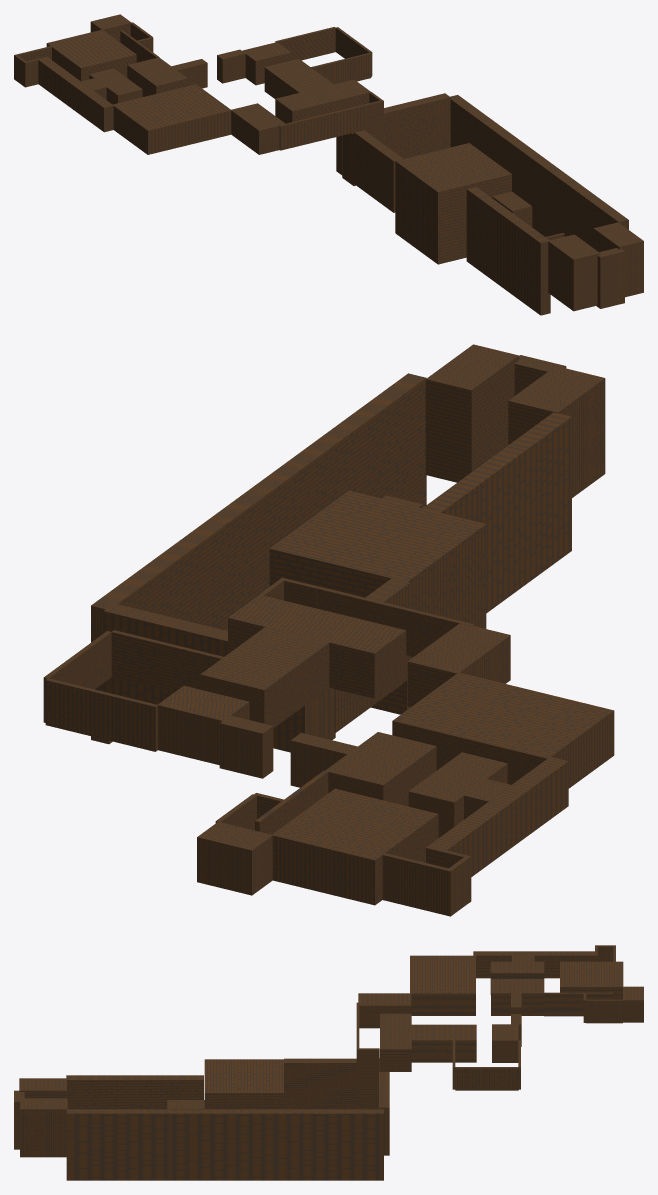
The model's file is P_Pared.obj.
The picture shows the model from 3 angles, top to bottom: view 1: azimuth 30°, elevation 25°; view 2: azimuth 150°, elevation 25°; view 3: azimuth 270°, elevation 25°; orthographic projection. The views are drawn at different scales.
Parts seen in each view (by area): view 1: P_Pared10, P_Pared3, P_Pared4, P_Pared21, P_Pared11, P_Pared2, P_Pared26, P_Pared12, P_Pared24, P_Pared19, P_Pared18, P_Pared1 (+16 smaller); view 2: P_Pared3, P_Pared10, P_Pared21, P_Pared4, P_Pared26, P_Pared1, P_Pared19, P_Pared27, P_Pared24, P_Pared2, P_Pared11, P_Pared38 (+18 smaller); view 3: P_Pared3, P_Pared4, P_Pared10, P_Pared21, P_Pared12, P_Pared1, P_Pared27, P_Pared26, P_Pared19, P_Pared22, P_Pared24, P_Pared36 (+12 smaller).
Part boxes in pixels (x1,y1,x2,y2): P_Pared10: [395, 143, 511, 264]; P_Pared3: [450, 95, 628, 247]; P_Pared4: [466, 186, 550, 315]; P_Pared21: [113, 84, 231, 154]; P_Pared11: [336, 93, 450, 175]; P_Pared2: [548, 234, 600, 311]; P_Pared26: [46, 29, 136, 81]; P_Pared12: [353, 130, 402, 212]; P_Pared24: [37, 56, 113, 132]; P_Pared19: [275, 79, 370, 123]; P_Pared18: [279, 105, 364, 150]; P_Pared1: [593, 222, 643, 297]; P_Pared3: [91, 373, 426, 744]; P_Pared10: [269, 490, 486, 714]; P_Pared21: [392, 672, 614, 788]; P_Pared4: [422, 412, 571, 613]; P_Pared26: [272, 788, 438, 905]; P_Pared1: [425, 344, 519, 482]; P_Pared19: [228, 594, 406, 698]; P_Pared27: [200, 627, 329, 728]; P_Pared24: [426, 756, 568, 876]; P_Pared2: [508, 366, 605, 497]; P_Pared11: [103, 603, 315, 752]; P_Pared38: [45, 678, 157, 751]; P_Pared3: [66, 1109, 383, 1180]; P_Pared4: [66, 1075, 203, 1109]; P_Pared10: [204, 1059, 283, 1109]; P_Pared21: [410, 955, 475, 1015]; P_Pared12: [284, 1058, 357, 1109]; P_Pared1: [20, 1098, 67, 1157]; P_Pared27: [411, 1024, 476, 1062]; P_Pared26: [560, 961, 623, 999]; P_Pared19: [380, 1013, 411, 1071]; P_Pared22: [491, 979, 544, 1015]; P_Pared24: [473, 951, 597, 978]; P_Pared36: [455, 1067, 518, 1090].
Size of the model in its own units: 64.59 by 19.38 by 119.
